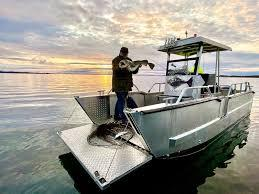fishing boat: (57, 29, 256, 191)
